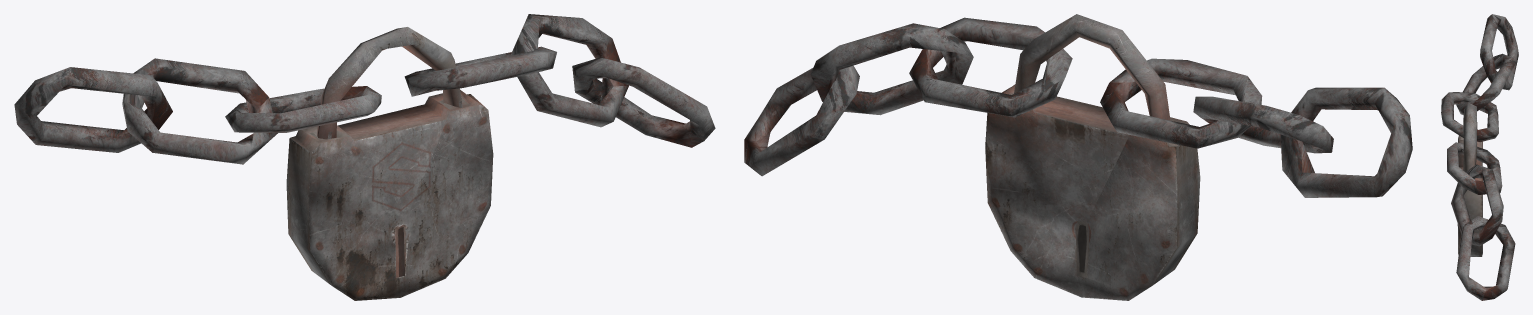
File: chain_lock.fbx
3 renders of one model, left to right at view 1: azimuth 30°, elevation 25°; view 2: azimuth 150°, elevation 25°; view 3: azimuth 270°, elevation 25°, orthographic. The views are drawn at different scales.
Visible parts, largest first — view 1: lock door; view 2: lock door; view 3: lock door.
Part boxes in pixels (left/top/right/bottom): lock door: left=14, top=14, right=715, bottom=300; lock door: left=744, top=14, right=1412, bottom=300; lock door: left=1441, top=14, right=1518, bottom=300.
Size of the model in its own units: 565 by 230 by 105.
